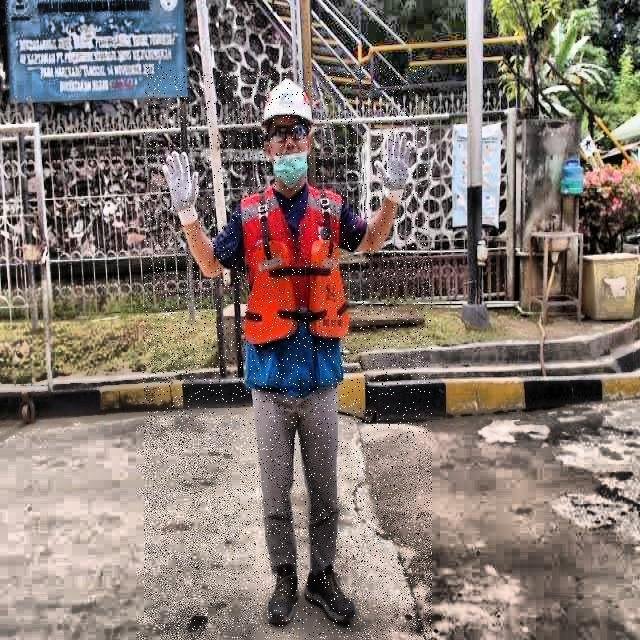safety_helmet: (257, 77, 318, 132)
safety_jacket: (241, 182, 351, 391)
